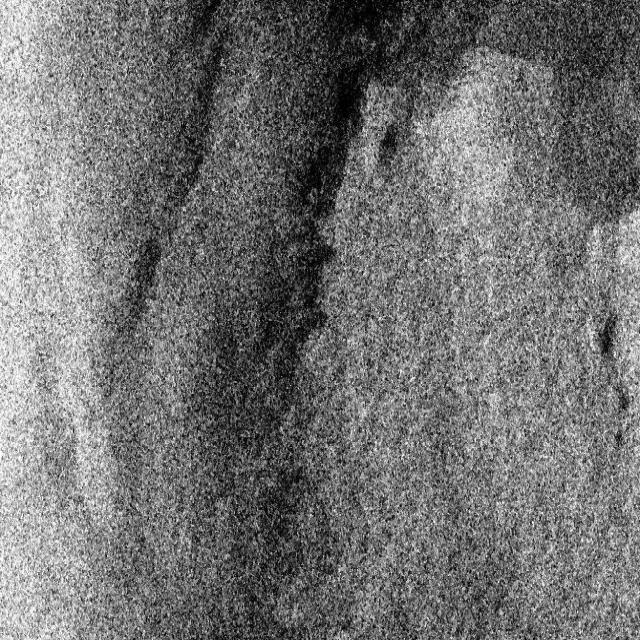look-alike: (298, 5, 416, 216), (217, 230, 316, 413), (153, 3, 236, 221), (231, 452, 322, 590), (108, 208, 166, 372), (583, 301, 633, 449), (369, 115, 402, 177)
